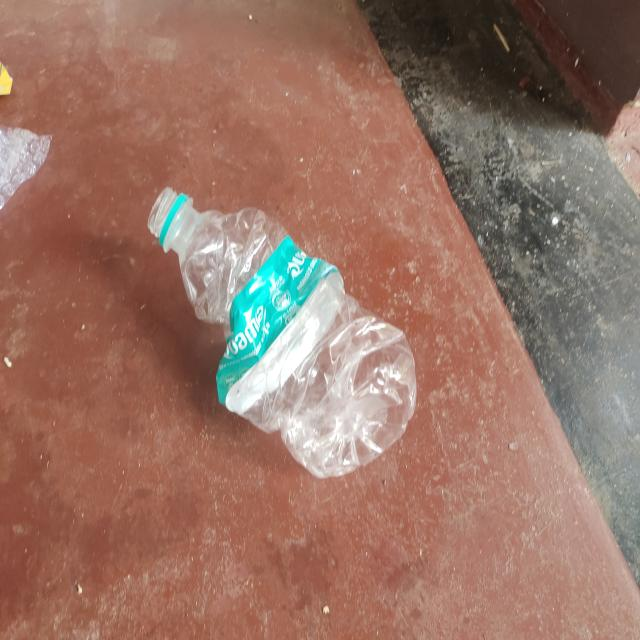plastic: (146, 186, 418, 482)
